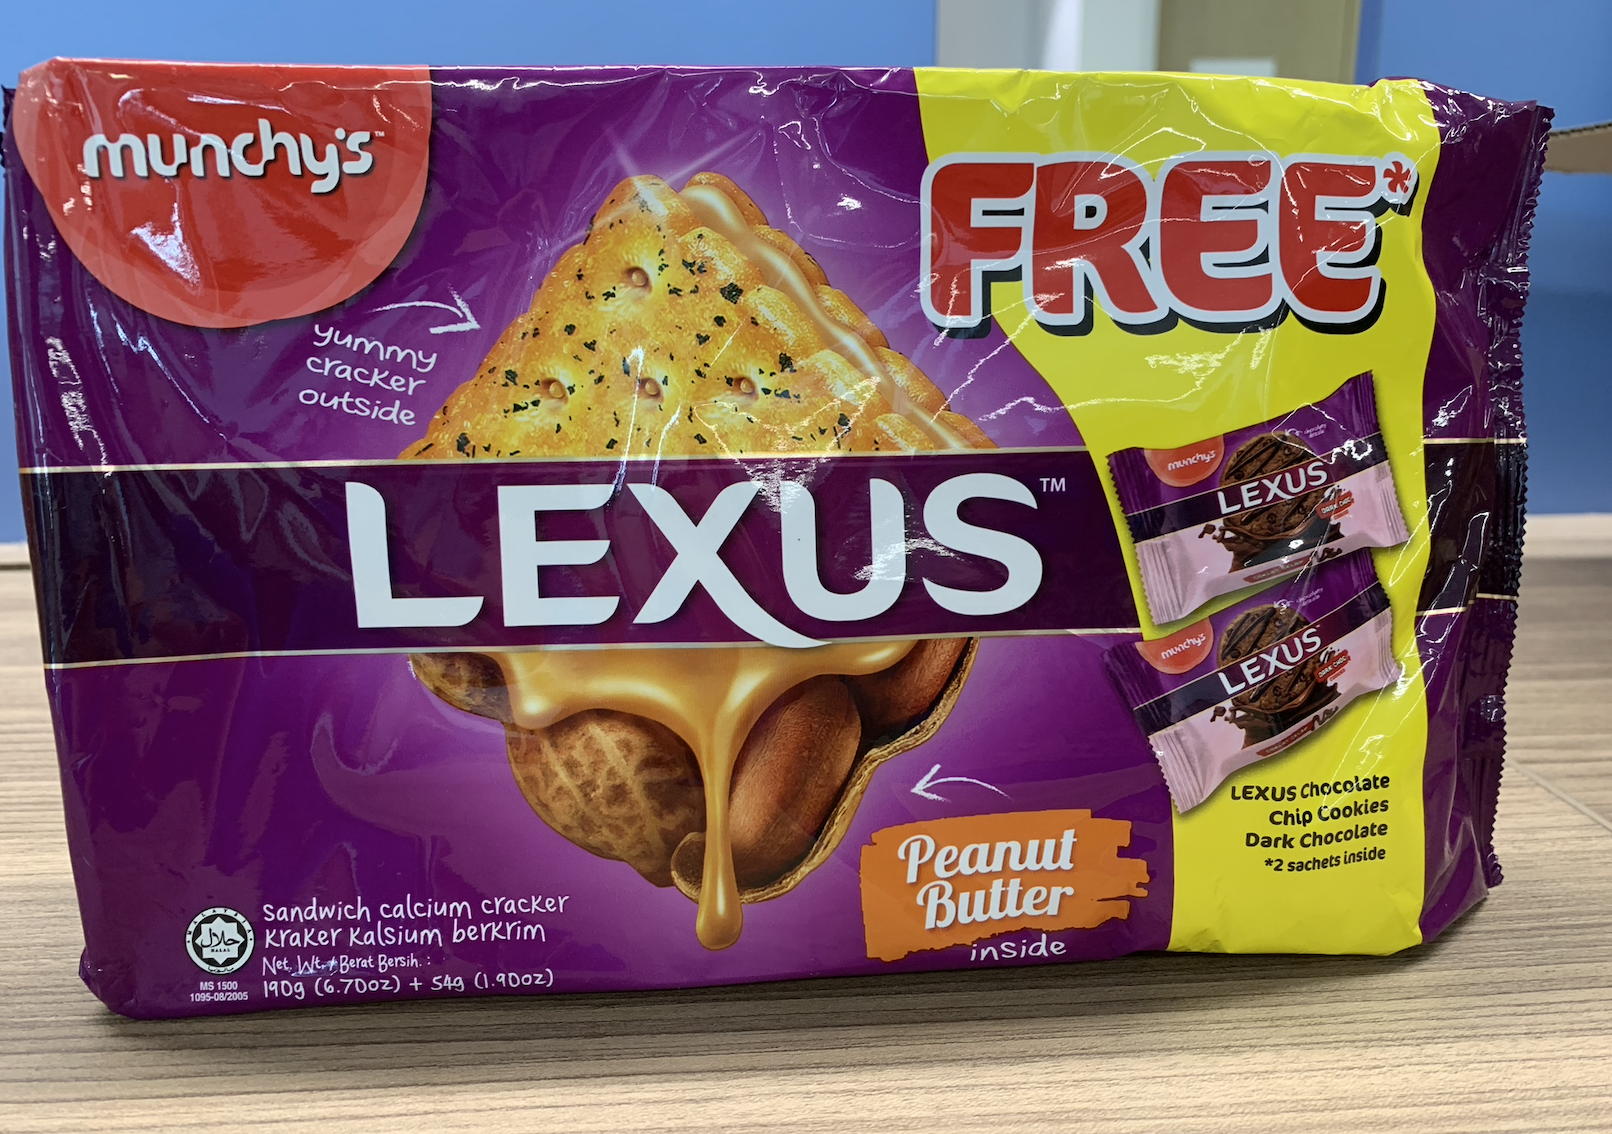cookies_100g-199g: (83, 80, 1434, 981)
